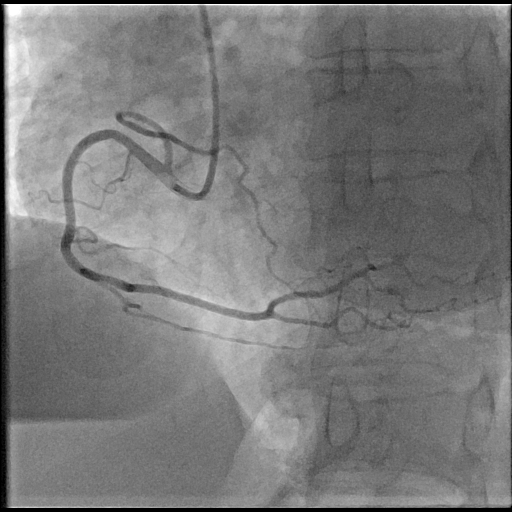RCA: (40, 112, 376, 339)
catherter: (173, 5, 219, 199)
